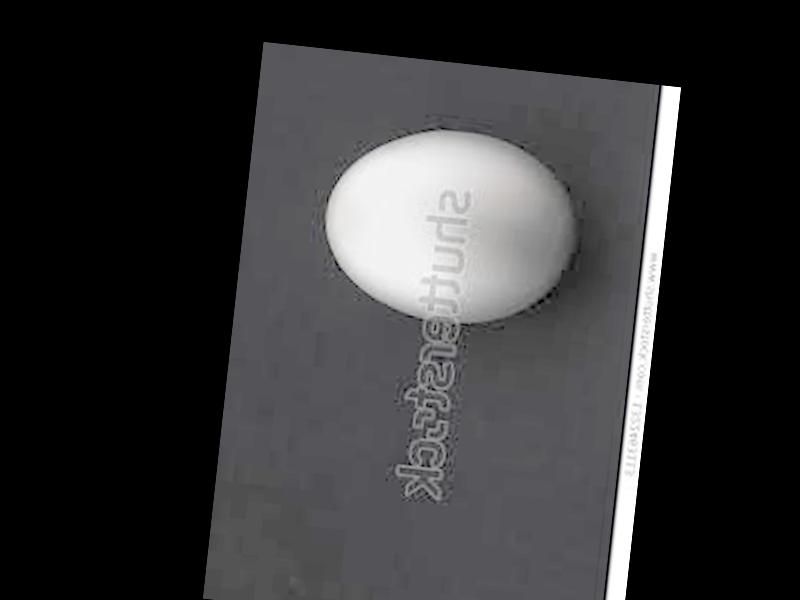Eggs: (314, 116, 581, 329)
